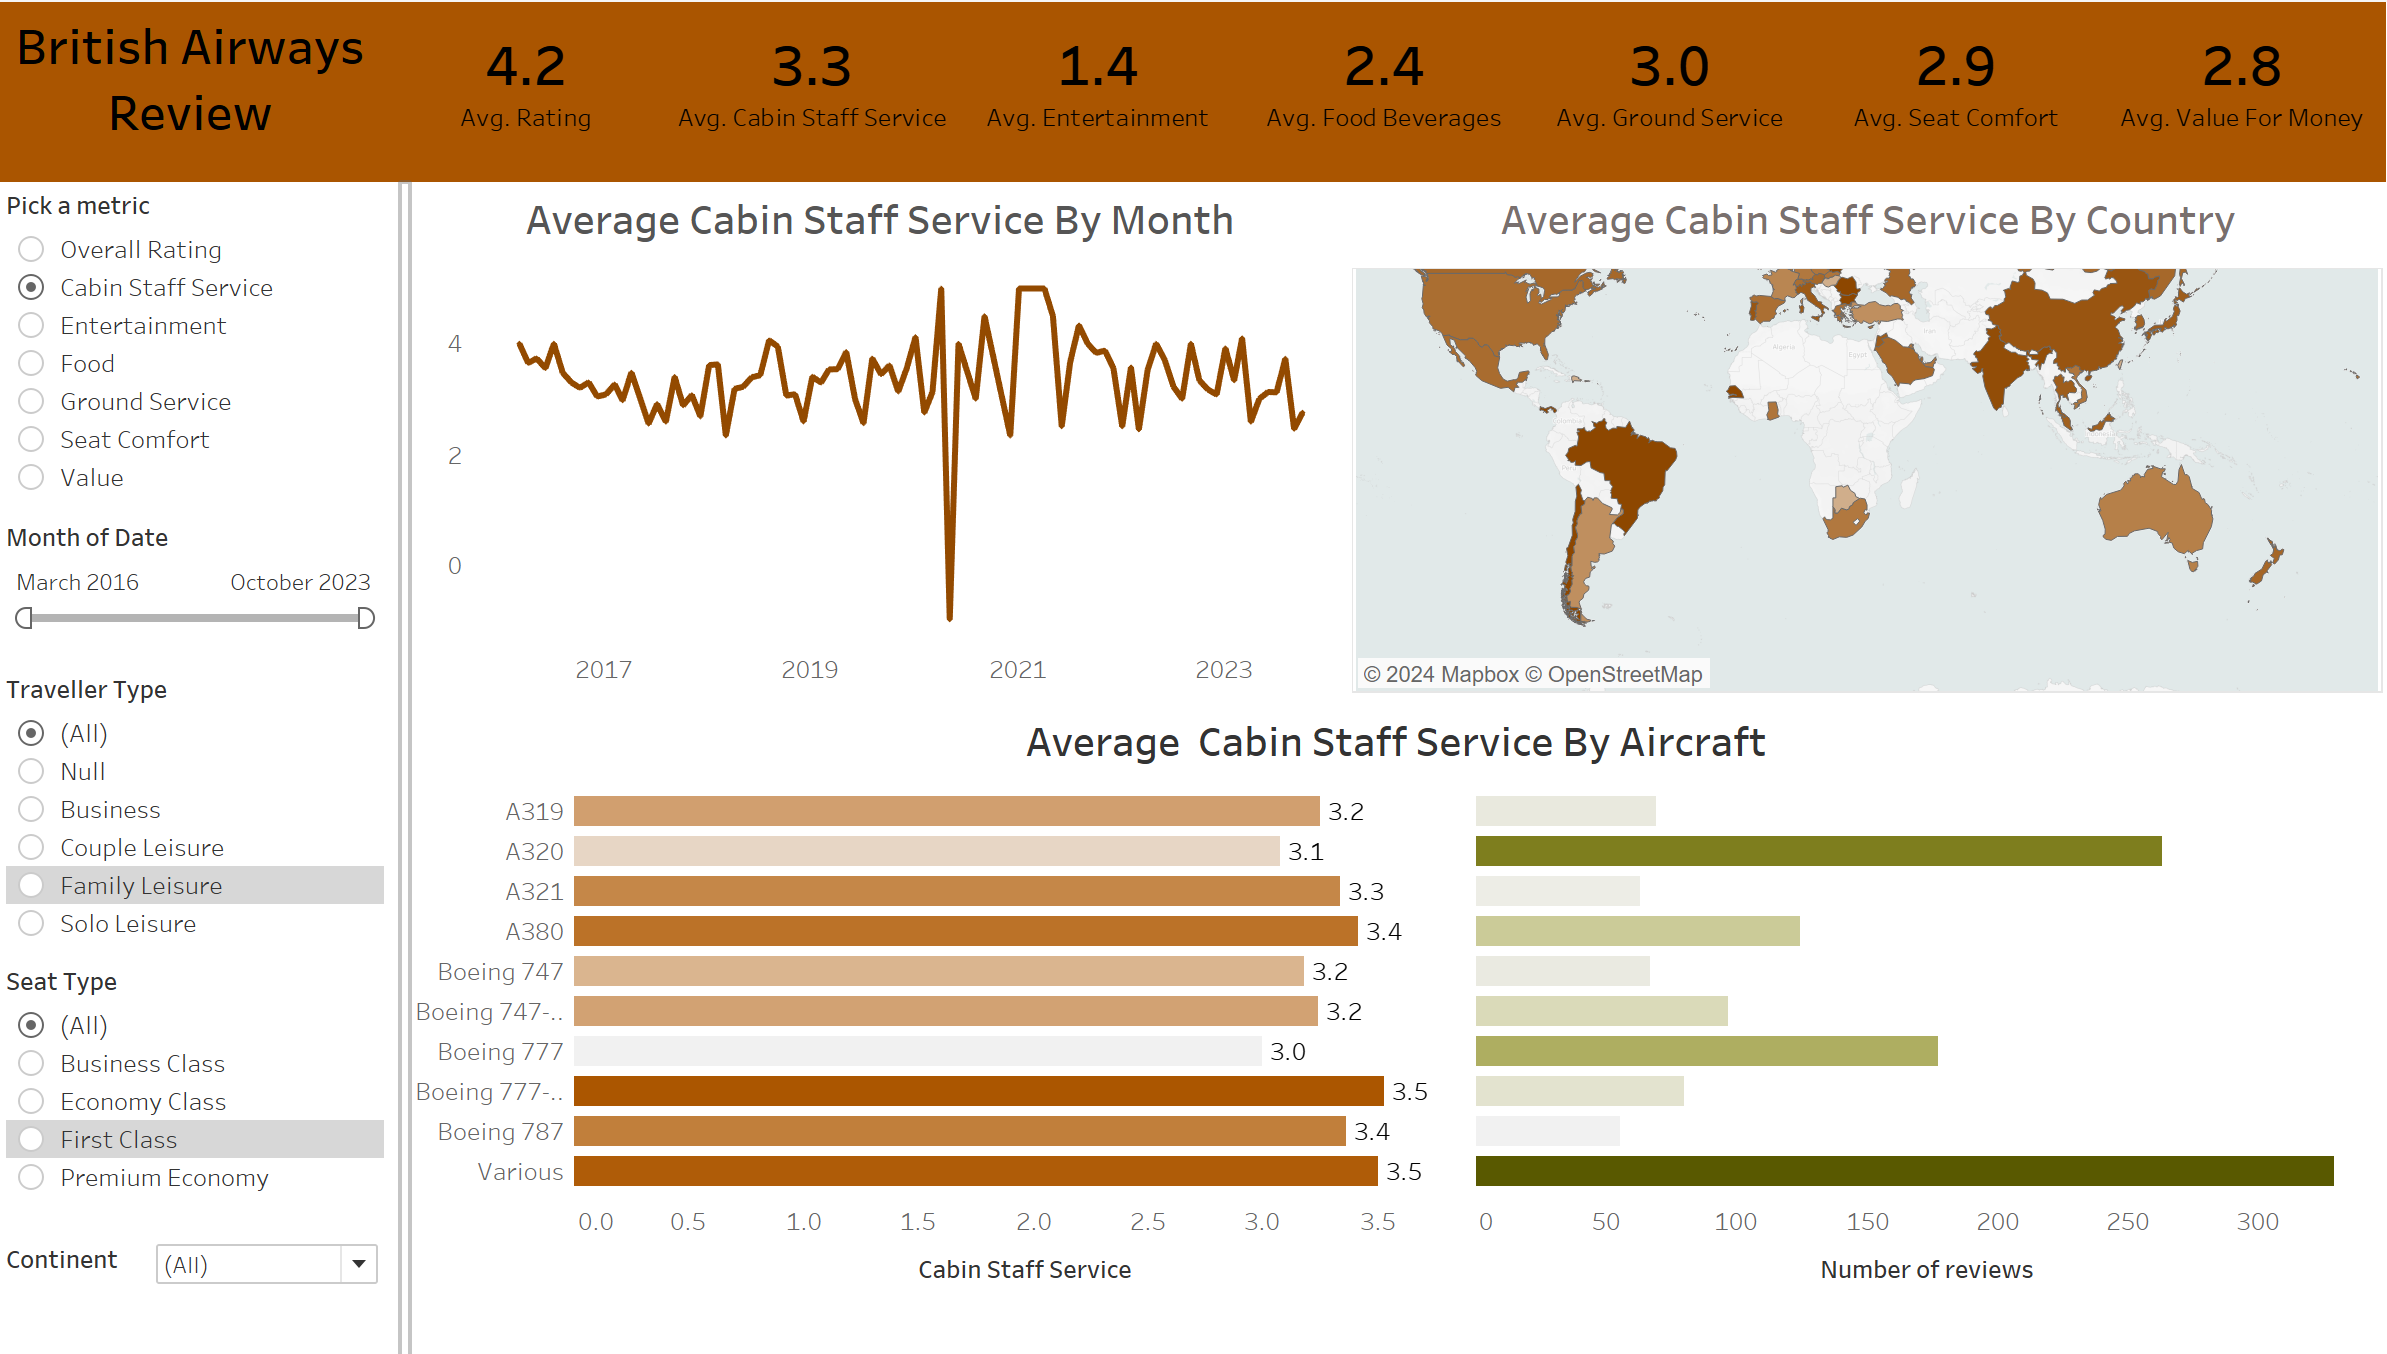

What the dashboard file says about the page in this screenshot:
{"tool":"tableau","page":{"name":"Dashboard","canvas":[1200,700],"ordinal":0},"visuals":[{"type":"filter","title":"summary","param":"[federated.0sbc88815ev5mj1erfr8w1ra3kkf].[Aircraft (group)]","box":[0,0,1200,700]},{"type":"text","box":[4,10,192,104]},{"type":"worksheet","title":"summary","mark":"Automatic","box":[196,11,1002,103]},{"type":"parameter","param":"[Parameters].[Ground Service Parameter]","box":[4,113,197,166]},{"type":"worksheet","title":"average by month","mark":"Automatic","rows":["Calculation_636133463734595584"],"cols":["date"],"box":[213,114,464,258]},{"type":"worksheet","title":"Map","mark":"Multipolygon","box":[681,114,516,256]},{"type":"blank","box":[206,115,3,588]},{"type":"blank","box":[3,117,6,583]},{"type":"filter","title":"Map","param":"[federated.0sbc88815ev5mj1erfr8w1ra3kkf].[tmn:date:qk]","box":[4,279,197,76]},{"type":"filter","title":"Map","param":"[federated.0sbc88815ev5mj1erfr8w1ra3kkf].[none:traveller_type:nk]","box":[4,355,197,146]},{"type":"worksheet","title":"aircraft","mark":"Automatic","cols":["Calculation_636133463734595584","ba_reviews.csv_0E9046A8BB1842E79F0586FD11CD1123"],"box":[212,375,982,321]},{"type":"filter","title":"Map","param":"[federated.0sbc88815ev5mj1erfr8w1ra3kkf].[none:seat_type:nk]","box":[4,501,197,137]},{"type":"filter","title":"Map","param":"[federated.0sbc88815ev5mj1erfr8w1ra3kkf].[none:Continent:nk]","box":[4,638,197,39]}]}

Visuals, with their boxes in screenshot pixels (x1, y1, x2, y2), scaled from the page's 1200x700 canvas onto the 2387x1354 screenshot:
"summary" filter: x1=0 y1=0 x2=2386 y2=1353
text: x1=8 y1=19 x2=390 y2=221
"summary" worksheet: x1=390 y1=21 x2=2383 y2=221
parameter: x1=8 y1=219 x2=400 y2=540
"average by month" worksheet: x1=424 y1=221 x2=1347 y2=720
"Map" worksheet (Multipolygon marks): x1=1355 y1=221 x2=2381 y2=716
blank: x1=410 y1=222 x2=416 y2=1353
blank: x1=6 y1=226 x2=18 y2=1353
"Map" filter: x1=8 y1=540 x2=400 y2=687
"Map" filter: x1=8 y1=687 x2=400 y2=969
"aircraft" worksheet: x1=422 y1=725 x2=2375 y2=1346
"Map" filter: x1=8 y1=969 x2=400 y2=1234
"Map" filter: x1=8 y1=1234 x2=400 y2=1310
